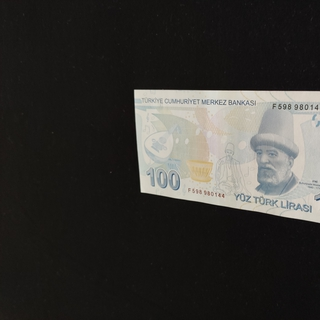100TLBack: (132, 88, 320, 234)
